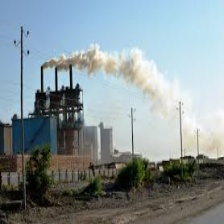smoke: (36, 41, 221, 151)
